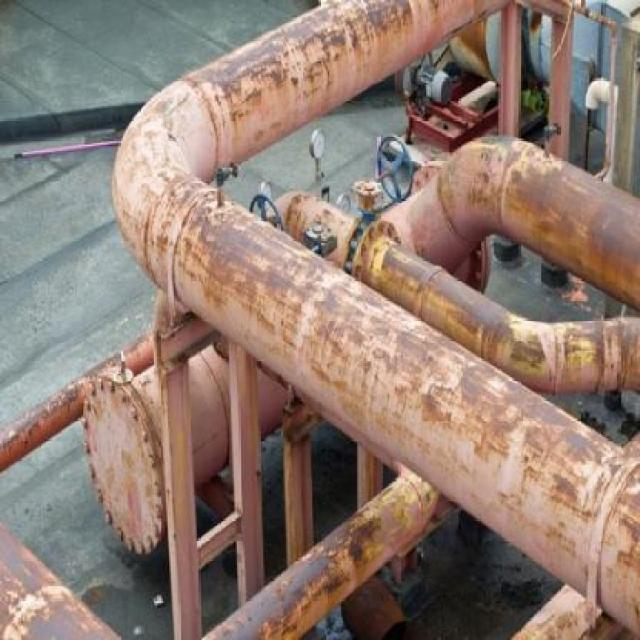corrosion: (89, 4, 640, 638)
